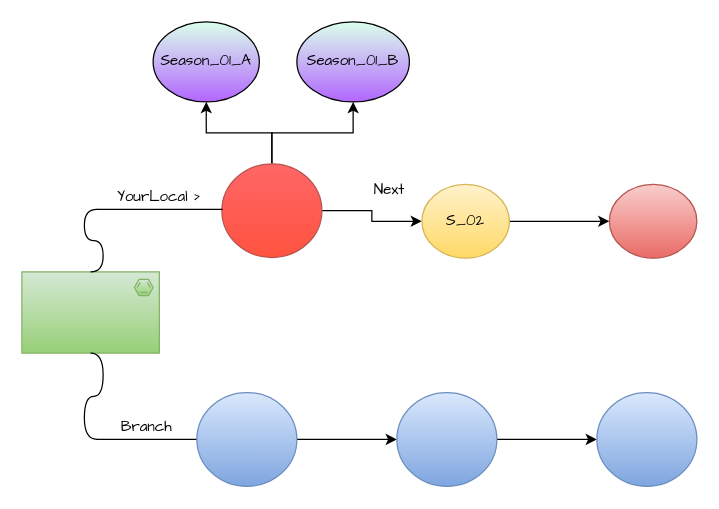
This 719x509 diagram has some shape labels left out. Here are the shapes that lost their labels. From the top down, the box of each, then its label:
(221, 162, 322, 258): Season_01
(21, 271, 159, 353): Root
